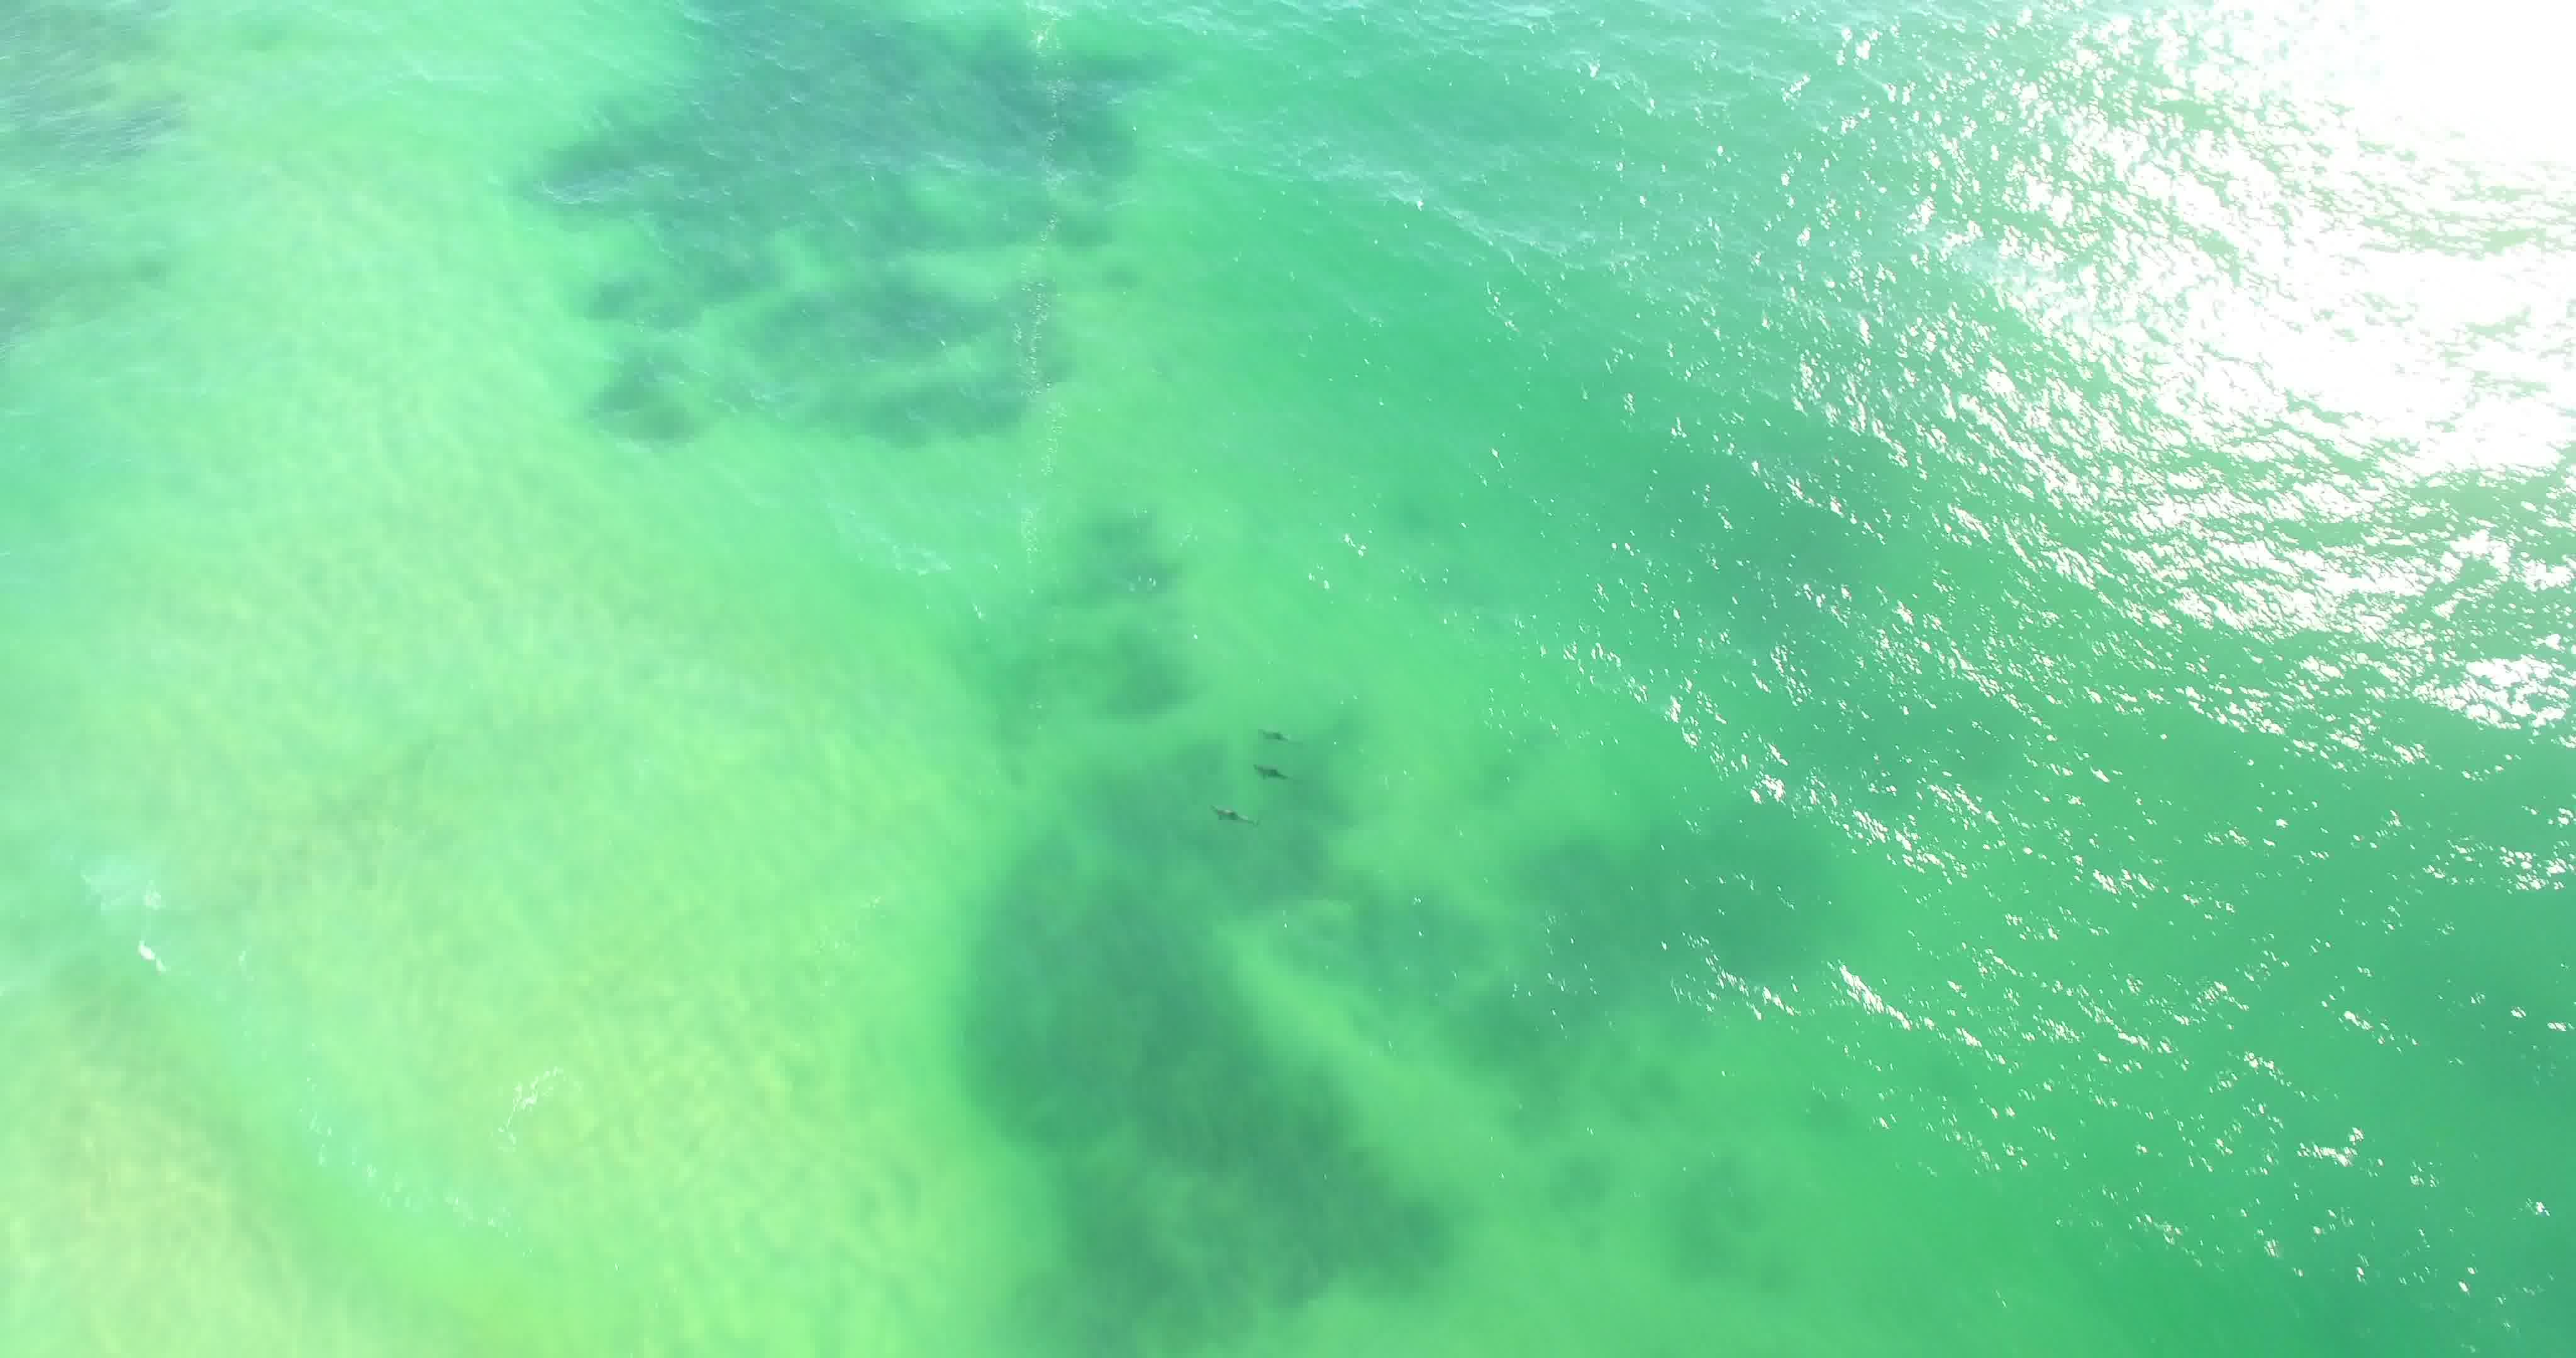dolphin: (1189, 780, 1285, 849), (1222, 712, 1317, 757), (1244, 748, 1307, 794)
